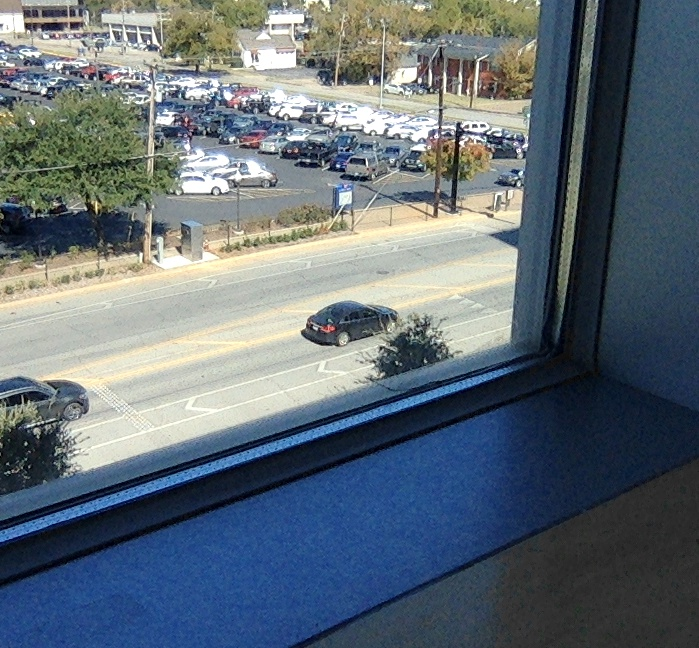car: (300, 300, 399, 348)
